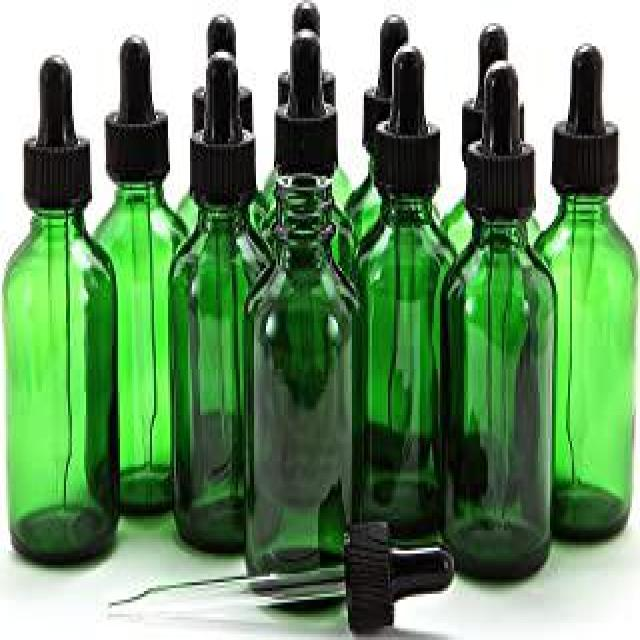non-organic waste: (0, 42, 124, 572)
